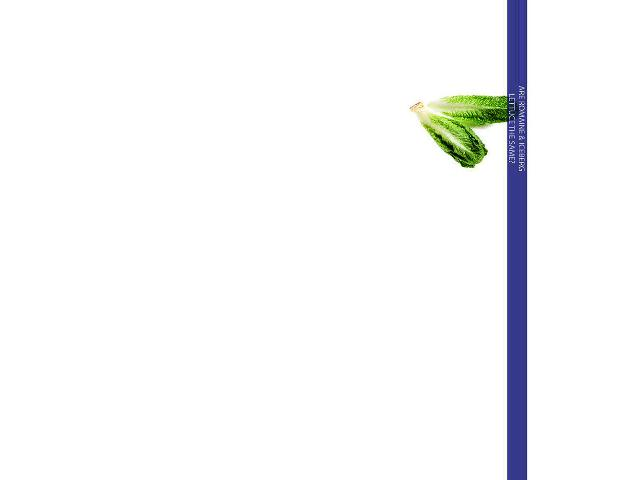lettuce: (410, 98, 493, 166)
